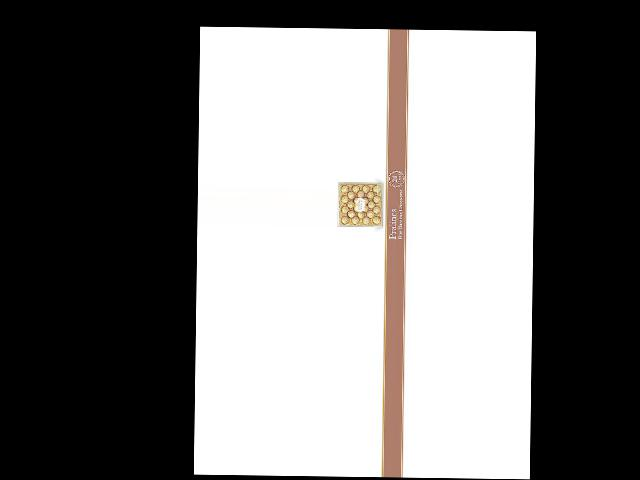chocolate: (334, 178, 385, 229)
